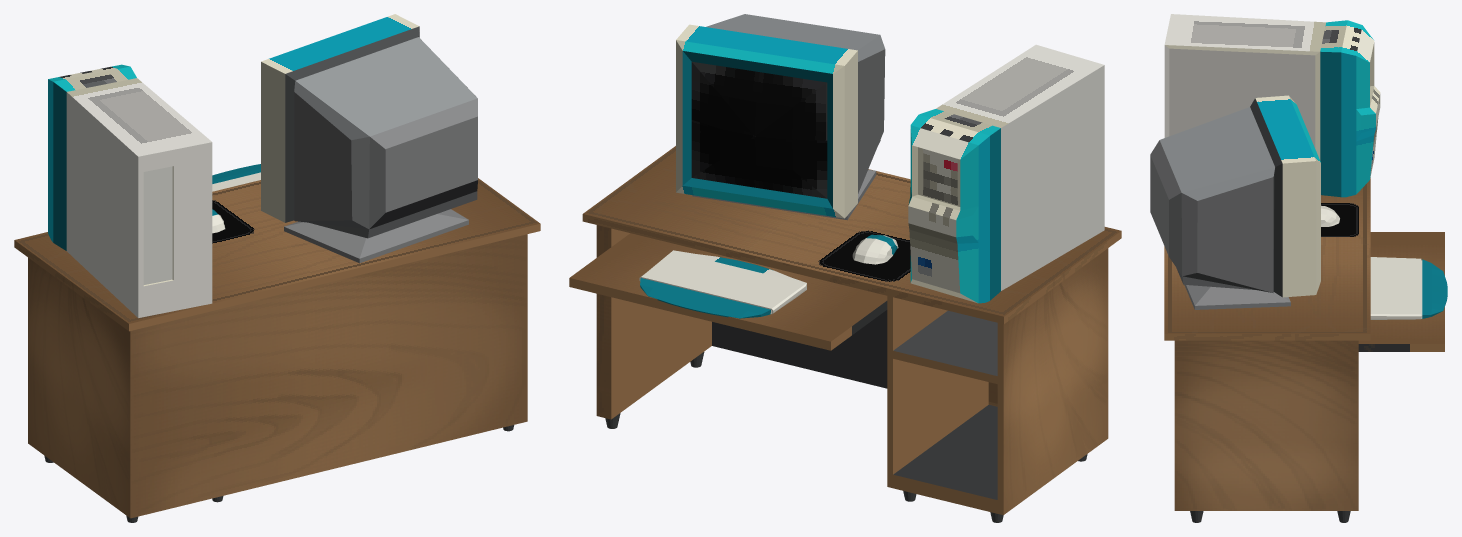
The model's file is program_settings_model.gltf.
3 renders of one model, left to right at view 1: azimuth 30°, elevation 25°; view 2: azimuth 150°, elevation 25°; view 3: azimuth 270°, elevation 25°, orthographic. The views are drawn at different scales.
Parts seen in each view (by area): view 1: computer; view 2: computer; view 3: computer.
Boxes of the visible parts, x1,y1,x2,y2 form: computer: (14, 14, 540, 522); computer: (569, 14, 1121, 522); computer: (1150, 14, 1447, 522).
Size of the model in its own units: 3.63 by 3.18 by 2.53.
Materials: 1 (1 with a texture image).
